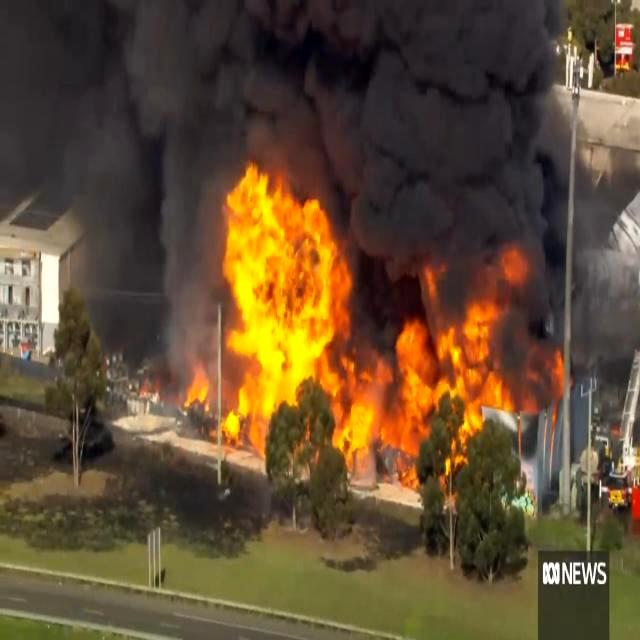fire: (191, 162, 551, 510)
